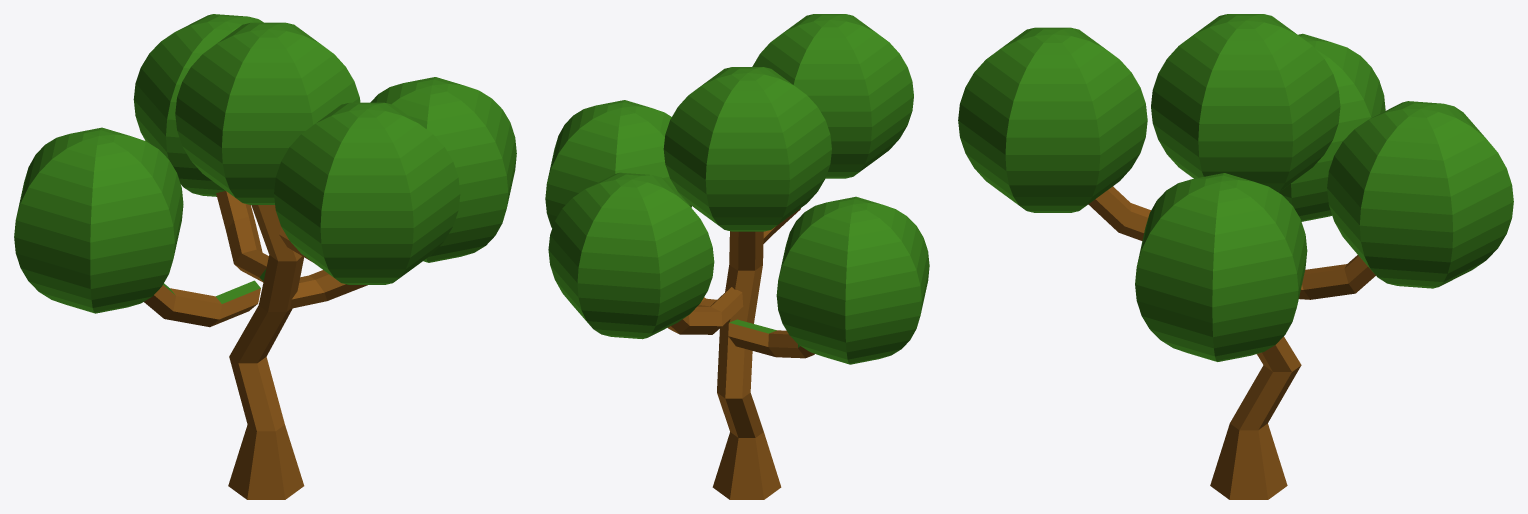
File: LeafTree.fbx
3 renders of one model, left to right at view 1: azimuth 30°, elevation 25°; view 2: azimuth 150°, elevation 25°; view 3: azimuth 270°, elevation 25°, orthographic. The views are drawn at different scales.
Parts seen in each view (by area): view 1: Cylinder.002; view 2: Cylinder.002; view 3: Cylinder.002.
Part boxes in pixels (x1,y1,x2,y2): Cylinder.002: (14, 14, 516, 499); Cylinder.002: (545, 14, 929, 499); Cylinder.002: (958, 14, 1513, 499).
Size of the model in its own units: 36.1 by 34.65 by 37.5.
